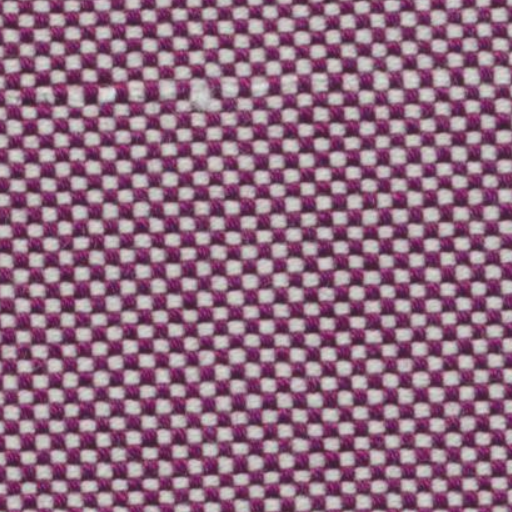DaiSha: (29, 63, 412, 110)
